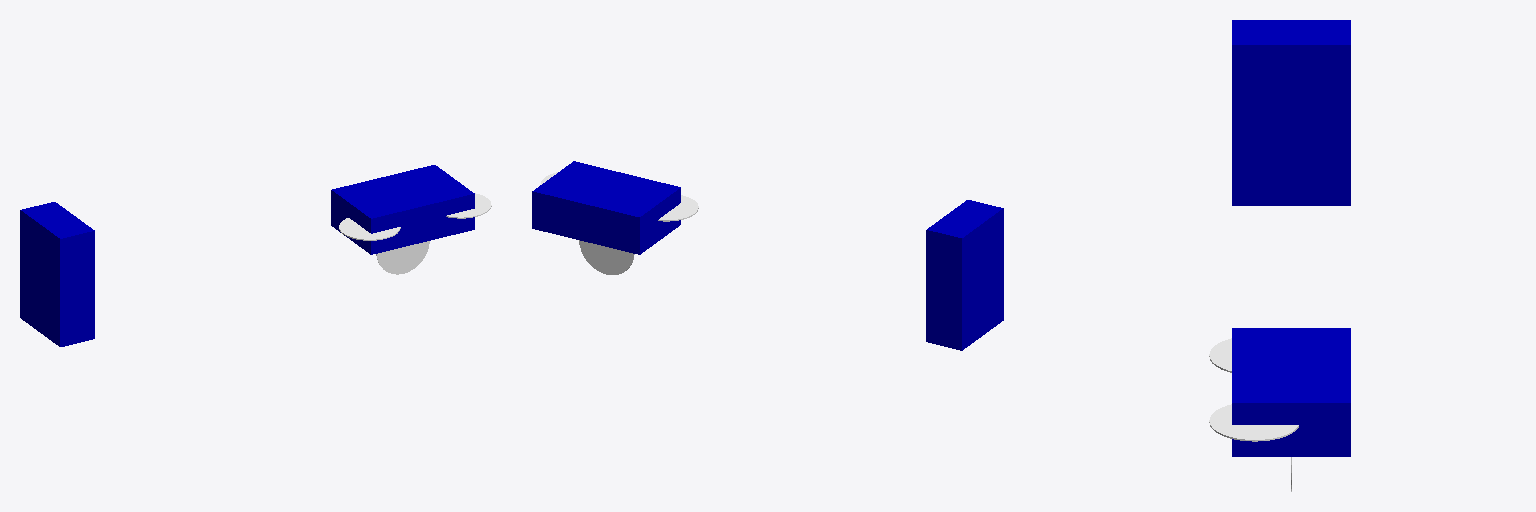
robot.urdf — glide:
<?xml version="1.0" ?>
<!-- =================================================================================== -->
<!-- |    This document was autogenerated by xacro from glide_description.urdf.xacro   | -->
<!-- |    EDITING THIS FILE BY HAND IS NOT RECOMMENDED                                 | -->
<!-- =================================================================================== -->
<robot name="glide">
  <material name="blue">
    <color rgba="0 0 0.8 1"/>
  </material>
  <material name="white">
    <color rgba="1 1 1 1"/>
  </material>
  <!-- 4" ~= 0.1 m -->
  <!-- 1 5" ~= 0.0381 m -->
  <!-- 1 1/4" ~= 0.03175 m -->
  <!-- <link name="steer_bar_link">
      <visual>
        <geometry>
          <cylinder length="0.4" radius="${bar_radius}"/>
        </geometry>
        <origin rpy="${degrees_45} -${degrees_45} -${degrees_55}" xyz="0 0 0"/>
        <material name="white"/>
      </visual>
      <collision> 
        <origin rpy="${degrees_45} 0 0" xyz="0 0 0"/>
        <geometry> 
          <cylinder length="0.4" radius="${bar_radius}"/>
        </geometry> 
      </collision>
  </link>
  <joint name="steer_bar_joint" type="revolute">
    <limit lower="-0.2" upper="0.2" effort="100" velocity="0.1"/>
      <origin rpy="0 0 0" xyz="-${1.8*body_width} 0 ${body_length/1.1}"/>
      <parent link="base_link"/>
      <child link="steer_bar_link"/>
      <axis xyz="0 1 0"/>
    </joint> -->
  <link name="base_footprint"/>
  <link name="base_link">
    <visual>
      <geometry>
        <box size="0.2 0.3 0.1"/>
      </geometry>
      <origin rpy="0 0 1.57" xyz="0 0 0.1"/>
      <material name="blue"/>
    </visual>
  </link>
  <gazebo reference="base_link">
    <material>Gazebo/Blue</material>
  </gazebo>
  <joint name="base_joint" type="fixed">
    <origin rpy="0 0 0" xyz="0 0 0"/>
    <!-- 0 3.14 1.57-->
    <child link="base_link"/>
    <parent link="base_footprint"/>
  </joint>
  <link name="front_right_wheel">
    <visual>
      <geometry>
        <cylinder length="0.003" radius="0.077"/>
      </geometry>
      <origin rpy="0 0 0" xyz="0 0 0"/>
      <material name="white"/>
    </visual>
    <collision>
      <origin rpy="0 0 0" xyz="0 0 0"/>
      <geometry>
        <cylinder length="0.003" radius="0.077"/>
      </geometry>
    </collision>
    <inertial>
      <origin rpy="0 0 0" xyz="0 0 0"/>
      <mass value="5.0"/>
      <!--<cylinder_inertia m="0.2" r="0.3" h="0.1"/> -->
      <!-- <cylinder_inirtia m="${mass}" r="${radius}" h="${width}" /> -->
      <inertia ixx="7.90866056" ixy="0.00000006" ixz="0" iyy="7.90866056" iyz="0" izz="2.48398783"/>
    </inertial>
  </link>
  <gazebo reference="$front_{name}_wheel">
    <material>Gazebo/White</material>
  </gazebo>
  <joint name="front_right_wheel_joint" type="revolute">
    <limit effort="100" lower="-0.6" upper="0.6" velocity="1"/>
    <origin rpy="0 0 3.141592653589793" xyz="-0.13175 -0.061900000000000004 0.107"/>
    <parent link="base_link"/>
    <child link="front_right_wheel"/>
    <axis xyz="0 1 0"/>
    <axis2 xyz="0 0 1"/>
  </joint>
  <link name="front_left_wheel">
    <visual>
      <geometry>
        <cylinder length="0.003" radius="0.077"/>
      </geometry>
      <origin rpy="0 0 0" xyz="0 0 0"/>
      <material name="white"/>
    </visual>
    <collision>
      <origin rpy="0 0 0" xyz="0 0 0"/>
      <geometry>
        <cylinder length="0.003" radius="0.077"/>
      </geometry>
    </collision>
    <inertial>
      <origin rpy="0 0 0" xyz="0 0 0"/>
      <mass value="5.0"/>
      <!--<cylinder_inertia m="0.2" r="0.3" h="0.1"/> -->
      <!-- <cylinder_inirtia m="${mass}" r="${radius}" h="${width}" /> -->
      <inertia ixx="7.90866056" ixy="0.00000006" ixz="0" iyy="7.90866056" iyz="0" izz="2.48398783"/>
    </inertial>
  </link>
  <gazebo reference="$front_{name}_wheel">
    <material>Gazebo/White</material>
  </gazebo>
  <joint name="front_left_wheel_joint" type="revolute">
    <limit effort="100" lower="-0.6" upper="0.6" velocity="1"/>
    <origin rpy="0 0 3.141592653589793" xyz="0.13175 -0.061900000000000004 0.107"/>
    <parent link="base_link"/>
    <child link="front_left_wheel"/>
    <axis xyz="0 1 0"/>
    <axis2 xyz="0 0 1"/>
  </joint>
  <link name="rear_right_wheel">
    <visual>
      <geometry>
        <cylinder length="0.003" radius="0.077"/>
      </geometry>
      <origin rpy="0 0 0" xyz="0 0 0"/>
      <material name="white"/>
    </visual>
    <collision>
      <origin rpy="0 0 0" xyz="0 0 0"/>
      <geometry>
        <cylinder length="0.003" radius="0.077"/>
      </geometry>
    </collision>
    <inertial>
      <origin rpy="0 0 0" xyz="0 0 0"/>
      <mass value="5.0"/>
      <!--<cylinder_inertia m="0.2" r="0.3" h="0.1"/> -->
      <!-- <cylinder_inirtia m="${mass}" r="${radius}" h="${width}" /> -->
      <inertia ixx="7.90866056" ixy="0.00000006" ixz="0" iyy="7.90866056" iyz="0" izz="2.48398783"/>
    </inertial>
  </link>
  <joint name="rear_right_wheel_joint" type="continuous">
    <origin rpy="1.5707963267948966 0 3.141592653589793" xyz="0 0 0"/>
    <parent link="base_link"/>
    <child link="rear_right_wheel"/>
    <axis xyz="0 0 1"/>
  </joint>
  <link name="rear_left_wheel">
    <visual>
      <geometry>
        <cylinder length="0.003" radius="0.077"/>
      </geometry>
      <origin rpy="0 0 0" xyz="0 0 0"/>
      <material name="white"/>
    </visual>
    <collision>
      <origin rpy="0 0 0" xyz="0 0 0"/>
      <geometry>
        <cylinder length="0.003" radius="0.077"/>
      </geometry>
    </collision>
    <inertial>
      <origin rpy="0 0 0" xyz="0 0 0"/>
      <mass value="5.0"/>
      <!--<cylinder_inertia m="0.2" r="0.3" h="0.1"/> -->
      <!-- <cylinder_inirtia m="${mass}" r="${radius}" h="${width}" /> -->
      <inertia ixx="7.90866056" ixy="0.00000006" ixz="0" iyy="7.90866056" iyz="0" izz="2.48398783"/>
    </inertial>
  </link>
  <joint name="rear_left_wheel_joint" type="continuous">
    <origin rpy="1.5707963267948966 0 3.141592653589793" xyz="0 0 0"/>
    <parent link="base_link"/>
    <child link="rear_left_wheel"/>
    <axis xyz="0 0 1"/>
  </joint>
  <!-- <link name="camera_bottom_screw_frame">
    <visual>
      <geometry>
          <box size="0.02505 0.090 0.025"/>
      </geometry>
    </visual>
    <collision>
      <geometry>
          <box size="0.02505 0.090 0.025"/>
      </geometry>
    </collision>
  </link> -->
  <!-- <link name="camera_link"></link>

  <link name="camera_depth_frame"></link>

  <link name="camera_depth_optical_frame"></link>

  <link name="camera_color_frame"></link>

  <link name="camera_color_optical_frame"></link>

  <link name="camera_left_ir_frame"></link>

  <link name="camera_left_ir_optical_frame"></link>

  <link name="camera_right_ir_frame"></link>

  <link name="camera_right_ir_optical_frame"></link> -->
  <!-- <joint name="camera_joint" type="fixed">
    <parent link="base_link" />
    <child link="camera_bottom_screw_frame" />
    <pose xyz="0.4 0 0.25" rpy="0 0 0" />
  </joint> -->
  <!-- <joint name="camera_link_joint" type="fixed">
    <parent link="base_link" />
    <child link="camera_link" />
    <pose xyz="0 0.0175 0.0125 " rpy="0 0 0" />
  </joint>

  <joint name="camera_depth_joint" type="fixed">
    <parent link="camera_link" />
    <child link="camera_depth_frame" />
    <pose xyz="0 0 0" rpy="0 0 0" />
  </joint>

  <joint name="camera_depth_optical_joint" type="fixed">
    <parent link="camera_depth_frame" />
    <child link="camera_depth_optical_frame" />
    <pose xyz="0 0 0 " rpy="-1.57 0 -1.57" />
  </joint>

  <joint name="camera_color_joint" type="fixed">
    <parent link="camera_depth_frame" />
    <child link="camera_color_frame" />
    <pose xyz="0 0 0" rpy="0 0 0" />
  </joint>

  <joint name="camera_color_optical_joint" type="fixed">
    <parent link="camera_color_frame" />
    <child link="camera_color_optical_frame" />
    <pose xyz="0 0 0 " rpy="-1.57 0 -1.57" />
  </joint>

  <joint name="camera_left_ir_joint" type="fixed">
    <parent link="camera_depth_frame" />
    <child link="camera_left_ir_frame" />
    <pose xyz="0 0 0 " rpy="0 0 0 " />
  </joint>

  <joint name="camera_left_ir_optical_joint" type="fixed">
    <parent link="camera_left_ir_frame" />
    <child link="camera_left_ir_optical_frame" />
    <pose xyz="0 0 0 " rpy="-1.57 0 -1.57" />
  </joint>

  <joint name="camera_right_ir_joint" type="fixed">
    <parent link="camera_depth_frame" />
    <child link="camera_right_ir_frame" />
    <pose xyz="0 -0.050 0 " rpy="0 0 0" />
  </joint>

  <joint name="camera_right_ir_optical_joint" type="fixed">
    <parent link="camera_right_ir_frame" />
    <child link="camera_right_ir_optical_frame" />
    <pose xyz="0 0 0 " rpy="-1.57 0 -1.57" />
  </joint> -->
  <link name="human_link">
    <visual>
      <geometry>
        <box size="0.3 0.2 0.1"/>
      </geometry>
      <material name="blue"/>
    </visual>
  </link>
  <joint name="base_to_human" type="fixed">
    <origin rpy="0 1.5707963267948966 0" xyz="-1.0 0.0 0.154"/>
    <parent link="base_link"/>
    <child link="human_link"/>
  </joint>
</robot>

--- What the picture shows (computed from the rendered views, not written in the file) ---
3 views of the same robot in one strip: view 1: azimuth 30°, elevation 25°; view 2: azimuth 150°, elevation 25°; view 3: azimuth 270°, elevation 25° (orthographic).
Model glide with 7 links and 6 joints (2 revolute, 2 continuous, 2 fixed), rooted at base_footprint, posed all joints at 0.
Visible links, largest first — view 1: human_link, base_link, rear_right_wheel, front_right_wheel; view 2: human_link, base_link, rear_right_wheel, front_right_wheel; view 3: human_link, base_link, front_left_wheel, front_right_wheel.
Boxes of the visible links, box(x1,y1,x2,y2) form: human_link: box(20, 202, 94, 346); base_link: box(331, 165, 474, 254); rear_right_wheel: box(376, 241, 429, 274); front_right_wheel: box(339, 218, 400, 240); human_link: box(926, 200, 1003, 350); base_link: box(532, 161, 680, 254); rear_right_wheel: box(579, 240, 634, 274); front_right_wheel: box(658, 195, 698, 221); human_link: box(1232, 20, 1350, 205); base_link: box(1232, 328, 1350, 456); front_left_wheel: box(1209, 404, 1298, 441); front_right_wheel: box(1209, 338, 1231, 372).
Size in the robot's own frame: 1.26 by 0.239 by 0.381 metres.
Geometry: primitives only (box / cylinder / sphere), no mesh files.
